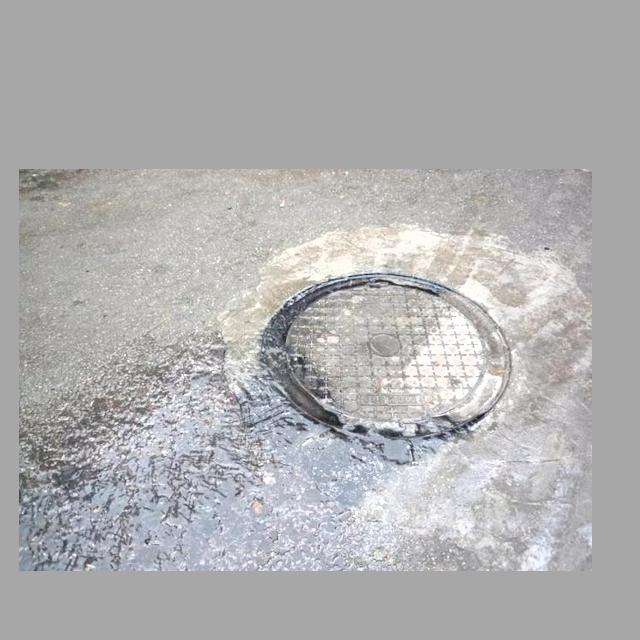circle: (223, 245, 531, 481)
